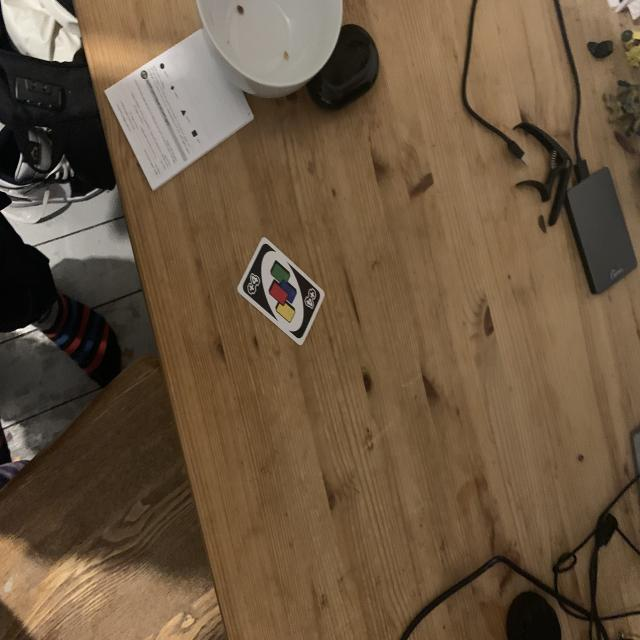lcolor-400: (240, 272, 262, 298)
